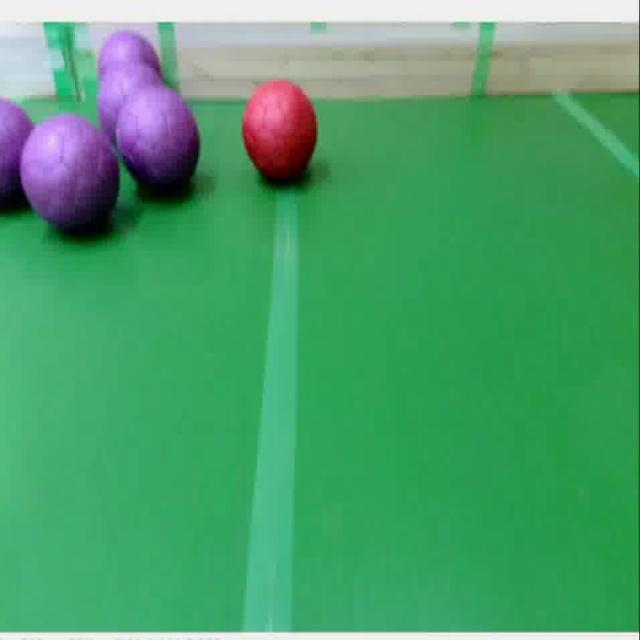purple_ball: (25, 119, 119, 232), (118, 87, 200, 201), (92, 59, 164, 142), (0, 102, 34, 208), (99, 30, 162, 63)
red_ball: (242, 78, 318, 185)
